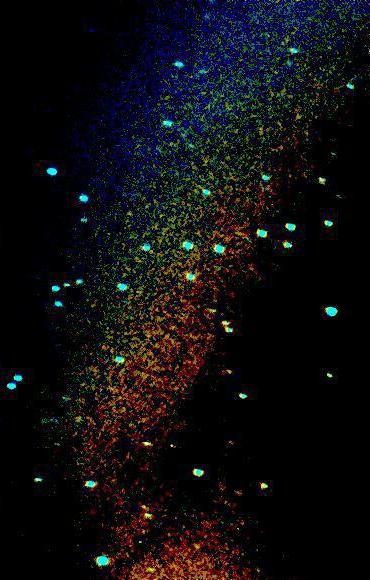star: (214, 355, 244, 385)
